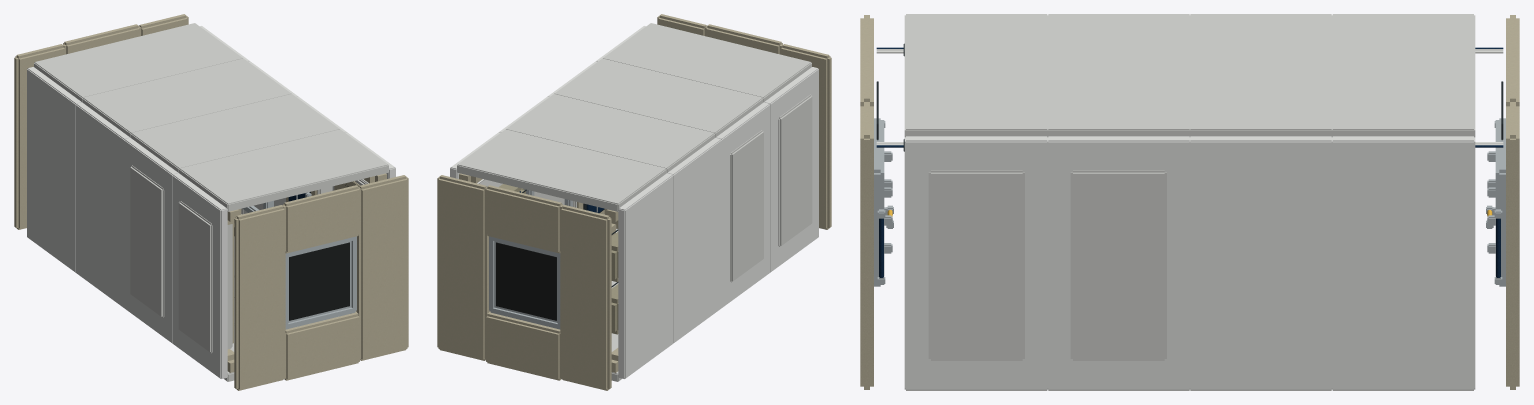
File: harmony_optimized.glb
3 renders of one model, left to right at view 1: azimuth 30°, elevation 25°; view 2: azimuth 150°, elevation 25°; view 3: azimuth 270°, elevation 25°, orthographic. The views are drawn at different scales.
Parts seen in each view (by area): view 1: harmony_interior; view 2: harmony_interior; view 3: harmony_interior.
Part boxes in pixels (box(x1,y1,x2,y2)): harmony_interior: box(14, 14, 408, 390); harmony_interior: box(437, 14, 831, 390); harmony_interior: box(860, 14, 1519, 390).
Bounding box in the file's own units: 3.16 × 3 × 6.84.
11 materials, 3 textured.
